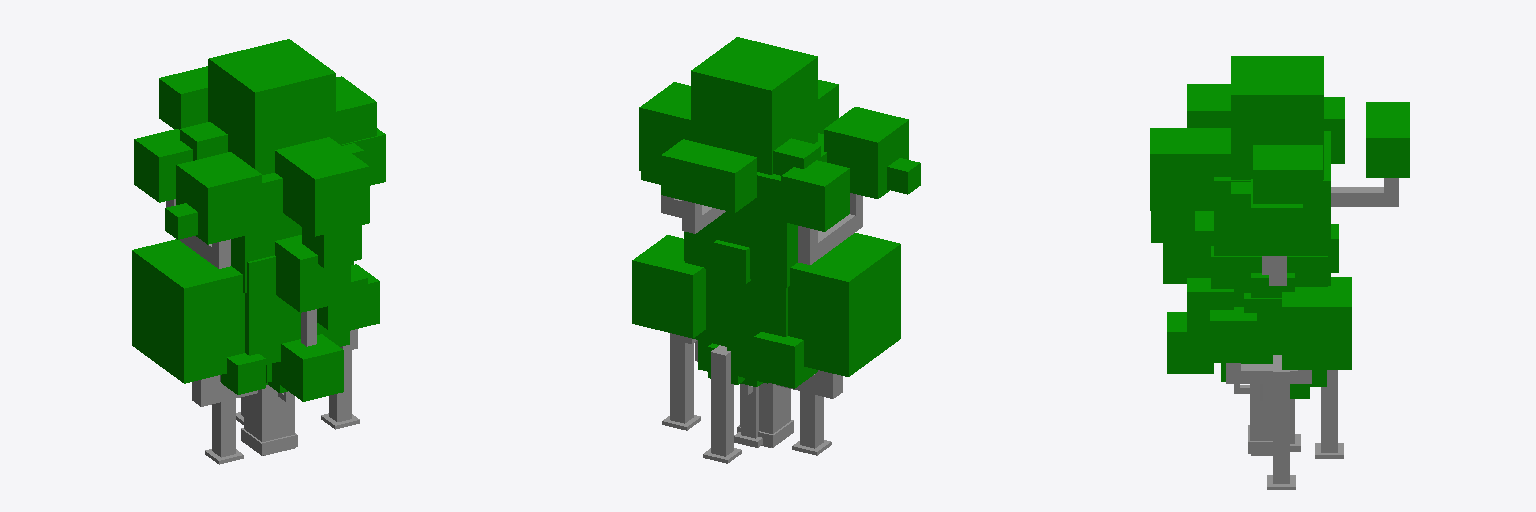
The model's file is trees2.obj.
3 renders of one model, left to right at view 1: azimuth 30°, elevation 25°; view 2: azimuth 150°, elevation 25°; view 3: azimuth 270°, elevation 25°, orthographic.
Visible parts, largest first — view 1: Tree6, Tree4, Tree5, Tree1; view 2: Tree6, Tree4, Tree1, Tree5, Tree2, Tree3; view 3: Tree6, Tree5, Tree4, Tree1, Tree2, Tree3.
Boxes of the visible parts, x1,y1,x2,y2 form: Tree6: [134, 39, 385, 464]; Tree4: [132, 239, 379, 406]; Tree5: [231, 76, 376, 455]; Tree1: [221, 255, 367, 455]; Tree6: [641, 37, 920, 463]; Tree4: [632, 233, 900, 398]; Tree1: [684, 232, 817, 447]; Tree5: [639, 82, 826, 447]; Tree2: [698, 340, 762, 447]; Tree3: [708, 343, 767, 395]; Tree6: [1150, 56, 1409, 489]; Tree5: [1163, 131, 1330, 455]; Tree4: [1210, 273, 1351, 416]; Tree1: [1187, 224, 1338, 453]; Tree2: [1241, 363, 1309, 451]; Tree3: [1221, 363, 1326, 393].
Size of the model in its own units: 9.25 by 14.35 by 9.02.